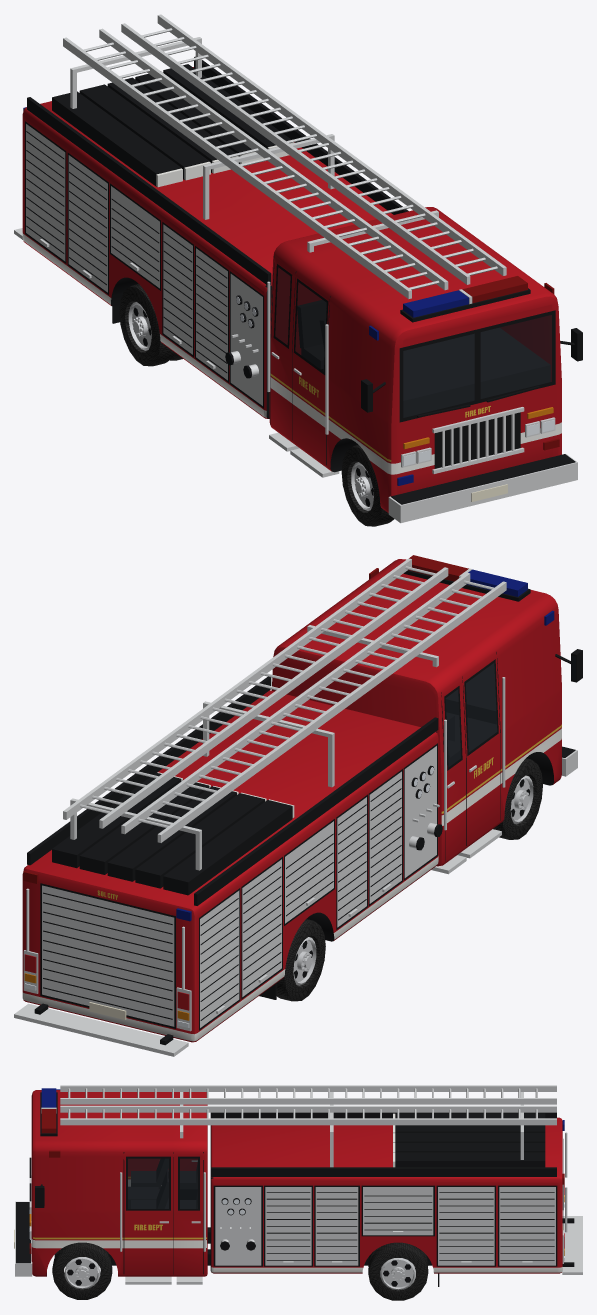
Rendered from car_firetruck.glb.
3 views of the same model, one above another, from view 1: azimuth 30°, elevation 25°; view 2: azimuth 150°, elevation 25°; view 3: azimuth 270°, elevation 25° (orthographic). The views are drawn at different scales.
Parts seen in each view (by area): view 1: Body, wheel_RR, wheel_FR; view 2: Body, wheel_RR, wheel_FR; view 3: Body, Door_L, wheel_RL, wheel_FL.
Part boxes in pixels (bbox=[...]): Body: bbox=[14, 14, 582, 523]; wheel_RR: bbox=[119, 284, 182, 366]; wheel_FR: bbox=[341, 444, 394, 526]; Body: bbox=[14, 555, 582, 1056]; wheel_RR: bbox=[276, 919, 325, 1001]; wheel_FR: bbox=[493, 758, 542, 839]; Body: bbox=[14, 1085, 582, 1286]; Door_L: bbox=[124, 1152, 172, 1275]; wheel_RL: bbox=[368, 1242, 428, 1300]; wheel_FL: bbox=[52, 1243, 112, 1299].
Bounding box in the file's own units: 3.1 × 3.25 × 9.86.
16 materials, 1 textured.
